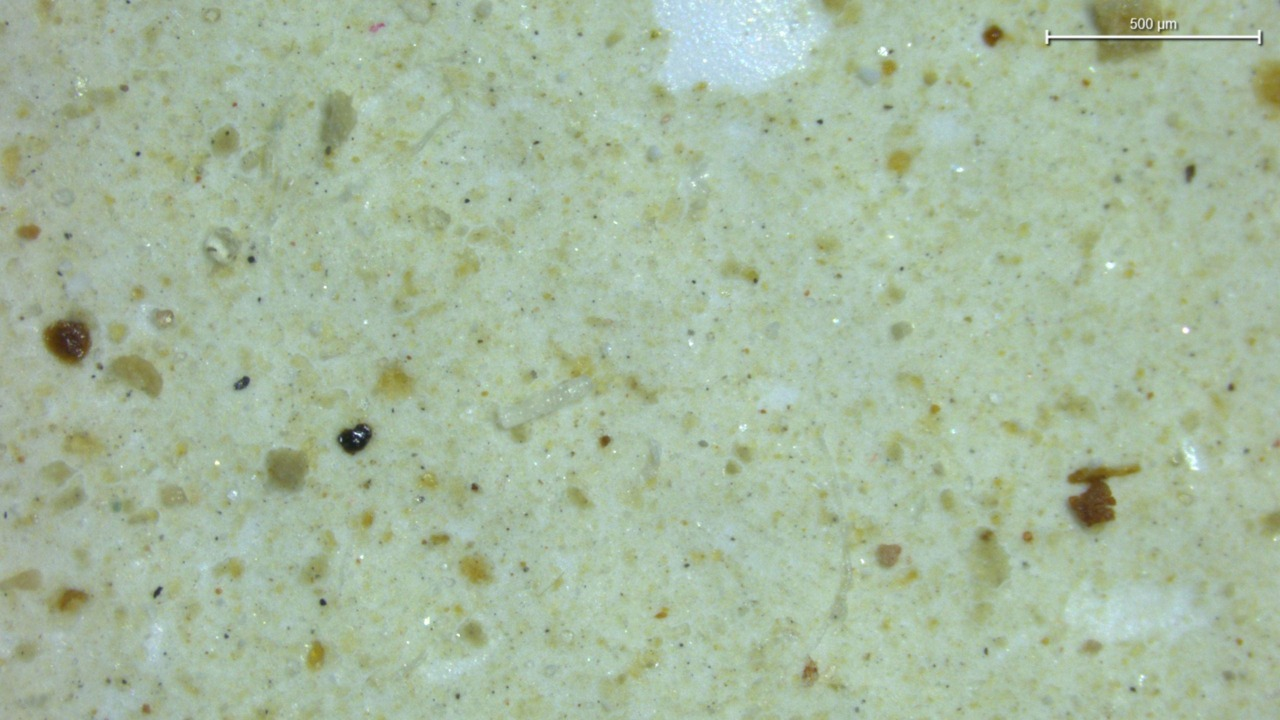microplastic_fragment: (321, 92, 356, 146), (204, 228, 243, 265)
